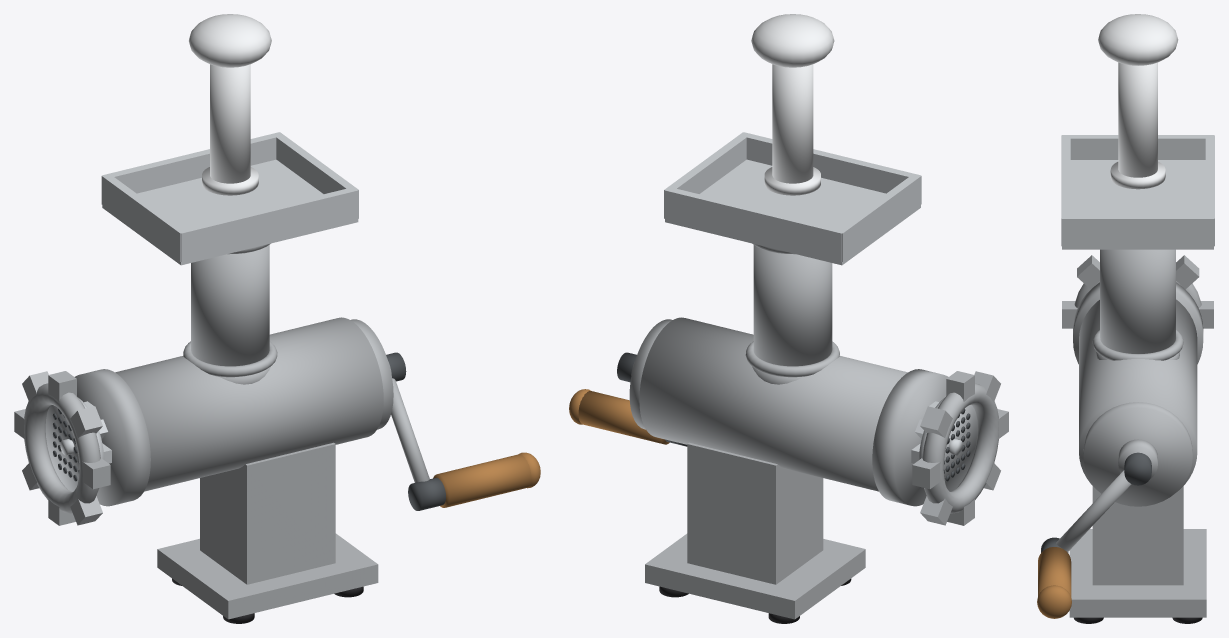
The model's file is meat_grinder_assembled_preview.glb.
The picture shows the model from 3 angles, left to right: view 1: azimuth 30°, elevation 25°; view 2: azimuth 150°, elevation 25°; view 3: azimuth 270°, elevation 25°; orthographic projection. The views are drawn at different scales.
Visible parts, largest first — view 1: SM_GrinderBody.002, SM_Pedestal.002, SM_FoodTube.002, SM_BasePlate.002, SM_HopperBase.002, SM_HopperWall_Front.002, SM_BodyFrontCollar.002, SM_PusherStem.002, SM_LockRing.002, SM_PusherKnob.002, SM_HandleWoodGrip.002, SM_HopperWall_Back.002 (+9 smaller); view 2: SM_GrinderBody.002, SM_Pedestal.002, SM_FoodTube.002, SM_BasePlate.002, SM_HopperBase.002, SM_HopperWall_Back.002, SM_BodyFrontCollar.002, SM_PusherStem.002, SM_LockRing.002, SM_PusherKnob.002, SM_HopperWall_Front.002, SM_HopperWall_Left.002 (+11 smaller); view 3: SM_GrinderBody.002, SM_FoodTube.002, SM_Pedestal.002, SM_BodyRearCollar.002, SM_BasePlate.002, SM_HopperBase.002, SM_HopperWall_Right.002, SM_PusherStem.002, SM_PusherKnob.002, SM_HopperWall_Left.002, SM_HandleArm.002, SM_BodyFrontCollar.002 (+13 smaller).
Part boxes in pixels (bbox=[...]): SM_GrinderBody.002: bbox=[115, 317, 383, 491]; SM_Pedestal.002: bbox=[200, 442, 335, 584]; SM_FoodTube.002: bbox=[191, 245, 269, 366]; SM_BasePlate.002: bbox=[157, 533, 378, 619]; SM_HopperBase.002: bbox=[102, 159, 358, 265]; SM_HopperWall_Front.002: bbox=[177, 187, 358, 261]; SM_BodyFrontCollar.002: bbox=[75, 369, 150, 506]; SM_PusherStem.002: bbox=[210, 64, 250, 183]; SM_LockRing.002: bbox=[24, 383, 100, 513]; SM_PusherKnob.002: bbox=[189, 14, 271, 67]; SM_HandleWoodGrip.002: bbox=[433, 454, 531, 507]; SM_HopperWall_Back.002: bbox=[102, 132, 279, 193]; SM_GrinderBody.002: bbox=[639, 317, 907, 491]; SM_Pedestal.002: bbox=[687, 442, 823, 584]; SM_FoodTube.002: bbox=[753, 245, 832, 366]; SM_BasePlate.002: bbox=[645, 533, 865, 619]; SM_HopperBase.002: bbox=[665, 159, 920, 265]; SM_HopperWall_Back.002: bbox=[664, 187, 845, 261]; SM_BodyFrontCollar.002: bbox=[872, 369, 948, 506]; SM_PusherStem.002: bbox=[772, 64, 813, 183]; SM_LockRing.002: bbox=[922, 383, 998, 513]; SM_PusherKnob.002: bbox=[751, 14, 834, 67]; SM_HopperWall_Front.002: bbox=[744, 132, 920, 193]; SM_HopperWall_Left.002: bbox=[835, 174, 921, 261]; SM_GrinderBody.002: bbox=[1079, 299, 1197, 491]; SM_FoodTube.002: bbox=[1100, 249, 1175, 353]; SM_Pedestal.002: bbox=[1092, 486, 1183, 585]; SM_BodyRearCollar.002: bbox=[1083, 402, 1192, 506]; SM_BasePlate.002: bbox=[1069, 529, 1206, 617]; SM_HopperBase.002: bbox=[1062, 160, 1213, 249]; SM_HopperWall_Right.002: bbox=[1062, 215, 1213, 246]; SM_PusherStem.002: bbox=[1118, 62, 1157, 177]; SM_PusherKnob.002: bbox=[1098, 14, 1178, 65]; SM_HopperWall_Left.002: bbox=[1062, 135, 1213, 159]; SM_HandleArm.002: bbox=[1056, 470, 1131, 552]; SM_BodyFrontCollar.002: bbox=[1073, 282, 1203, 364].
Size of the model in its own units: 0.6473 by 0.8042 by 0.234.
